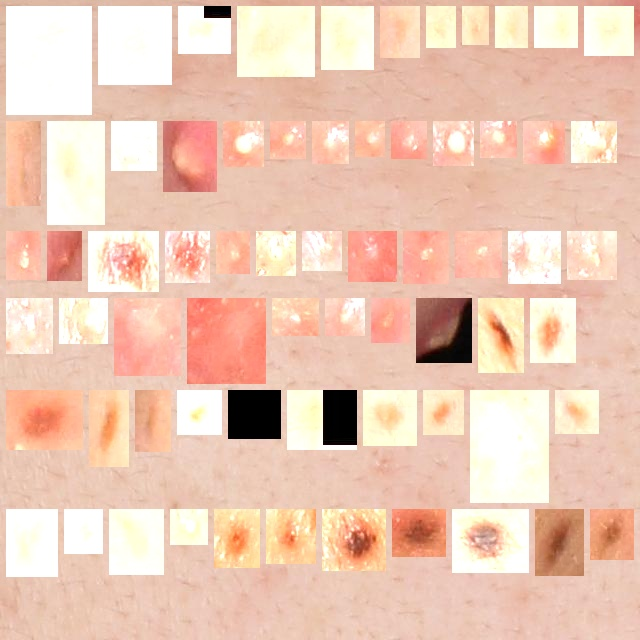hypertrophic_scar: (478, 398, 541, 495), (195, 306, 258, 376), (122, 306, 173, 368)
melasma: (14, 14, 84, 107), (55, 129, 97, 217), (106, 14, 164, 77), (245, 14, 307, 69), (295, 398, 349, 442), (117, 517, 156, 567), (14, 517, 50, 569), (329, 14, 366, 62), (97, 398, 121, 459), (14, 129, 33, 198), (236, 398, 273, 431), (186, 14, 223, 46), (592, 14, 626, 48), (143, 398, 163, 444), (388, 14, 412, 50), (185, 398, 214, 427), (542, 14, 570, 40), (72, 517, 95, 546), (503, 14, 520, 40), (434, 14, 448, 40), (470, 14, 481, 37)
nevus: (460, 517, 521, 565), (14, 398, 75, 442), (96, 239, 151, 284), (330, 517, 378, 563), (486, 306, 516, 365), (543, 517, 576, 568), (371, 398, 409, 438), (538, 306, 568, 355), (274, 517, 308, 556), (222, 517, 252, 560), (400, 517, 438, 549), (173, 239, 202, 275), (598, 517, 626, 552), (563, 398, 591, 426), (431, 398, 456, 427)
pustule: (171, 129, 209, 184), (424, 306, 464, 355), (516, 239, 553, 276), (14, 306, 45, 346), (356, 239, 389, 274), (575, 239, 609, 272), (411, 239, 441, 276), (119, 129, 149, 163), (67, 306, 100, 336), (463, 239, 494, 270), (579, 129, 609, 155), (231, 129, 256, 159), (441, 129, 466, 158), (531, 129, 557, 156), (264, 239, 288, 268), (280, 306, 311, 328), (379, 306, 402, 335), (55, 239, 74, 273), (14, 239, 33, 272), (310, 239, 334, 263), (320, 129, 341, 156), (333, 306, 357, 328), (224, 239, 242, 266), (488, 129, 509, 150), (278, 129, 298, 151), (399, 129, 419, 151), (178, 517, 200, 537), (363, 129, 377, 149)
